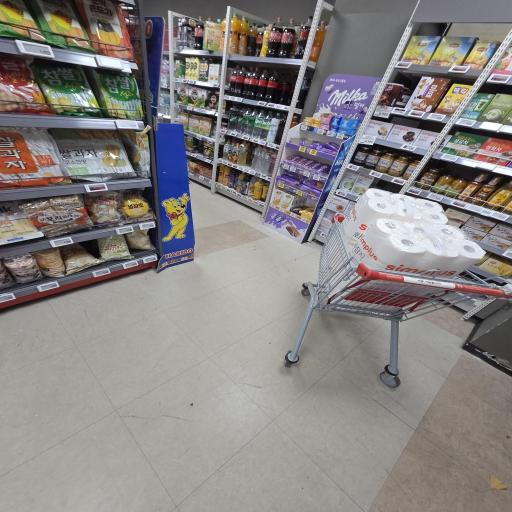fully_cart: (278, 186, 512, 384)
